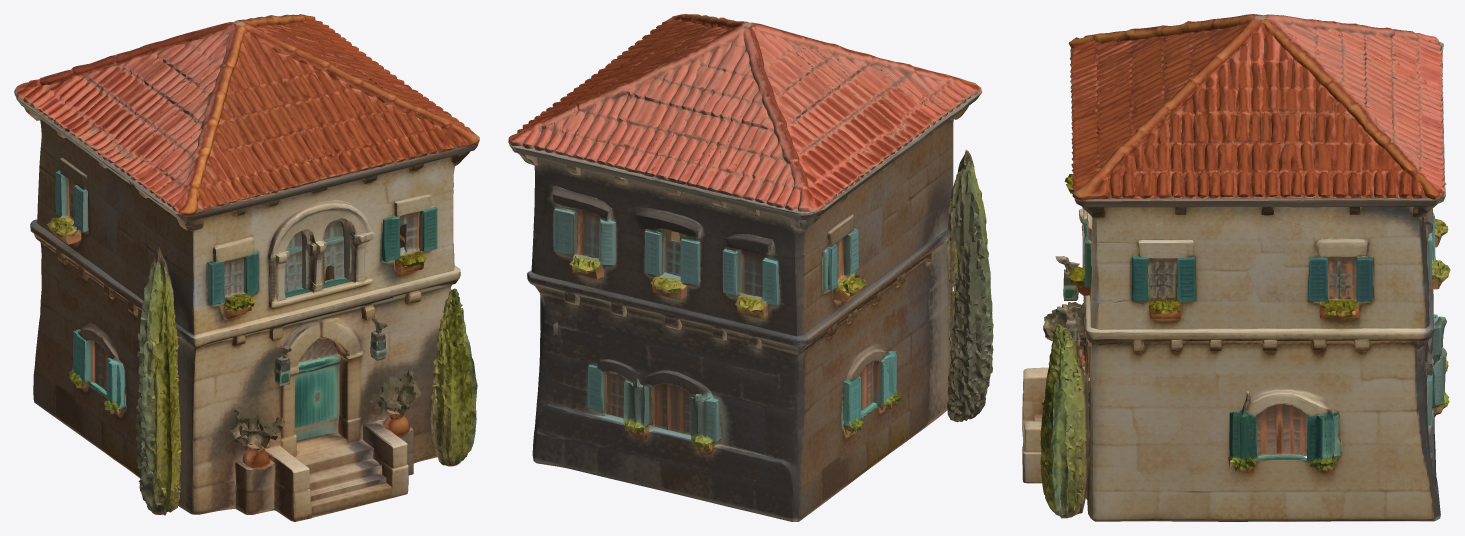
File: old_house_nazareth.glb
3 renders of one model, left to right at view 1: azimuth 30°, elevation 25°; view 2: azimuth 150°, elevation 25°; view 3: azimuth 270°, elevation 25°, orthographic. The views are drawn at different scales.
Visible parts, largest first — view 1: geometry_0; view 2: geometry_0; view 3: geometry_0.
Part boxes in pixels (x1,y1,x2,y2): geometry_0: (14, 14, 479, 521); geometry_0: (508, 14, 993, 521); geometry_0: (1022, 14, 1450, 521).
Size of the model in its own units: 8.47 by 10 by 8.91.
Materials: 1 (1 with a texture image).
